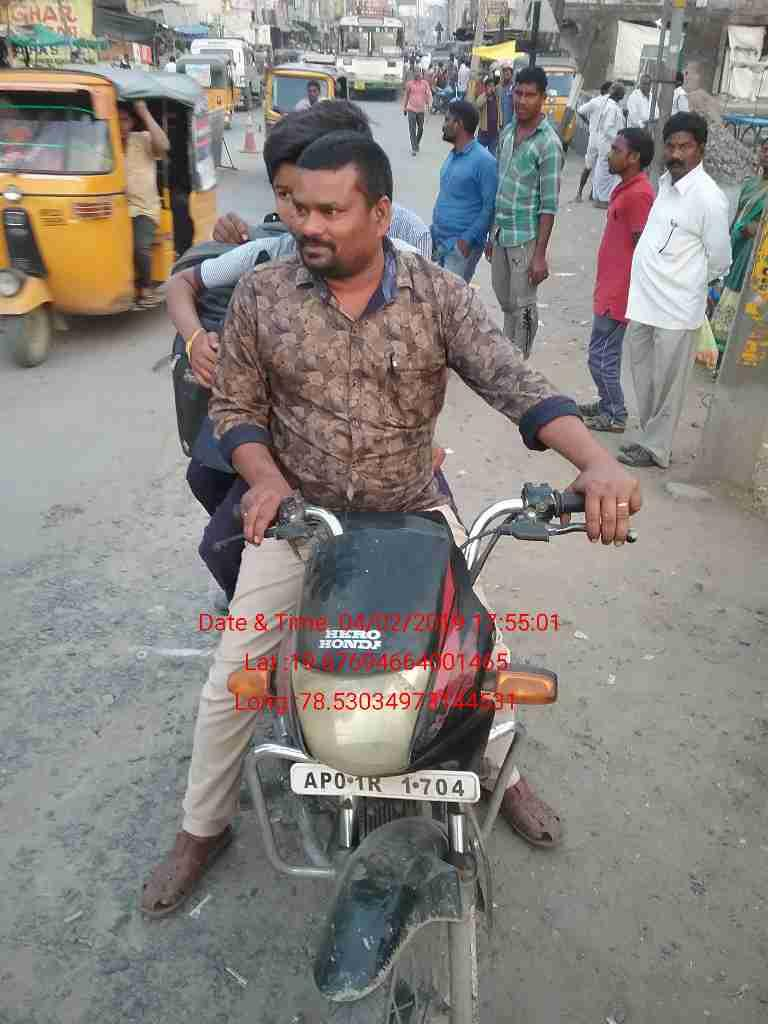plate: (285, 755, 493, 807)
